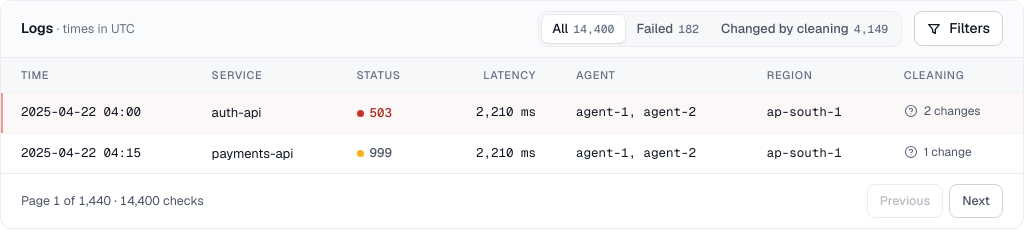
Test: Logs panel › switching tab restarts at page 1 with the new tab
Expected: the text "Page 1 of 1,440 · 14,400 checks" is shown, [21,192,204,210]
Click the button "Failed 182": coordinates (668, 29) [626,15,709,42]
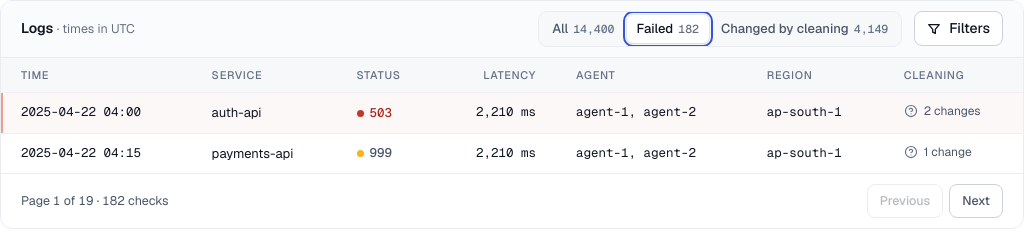
Expected: the text "Page 1 of 19 · 182 checks" is shown, [21,192,169,210]
